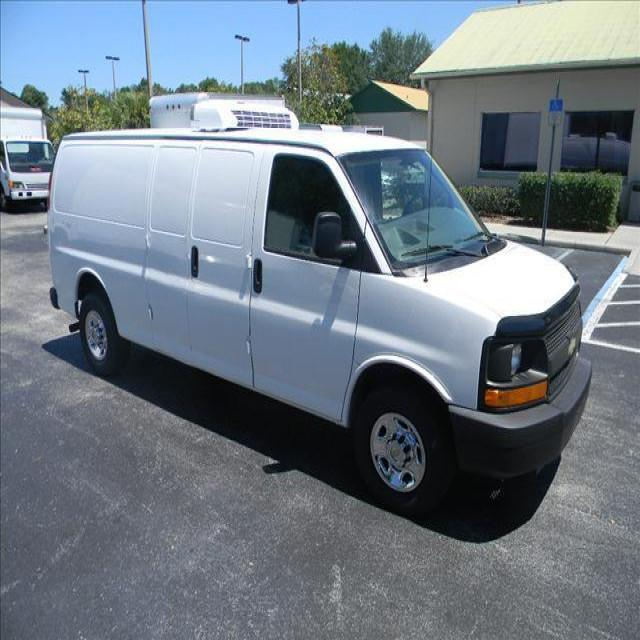Van: (37, 107, 606, 525)
